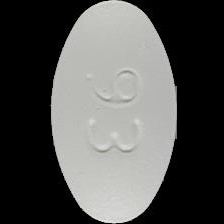57844-692: (0, 0, 224, 224)
